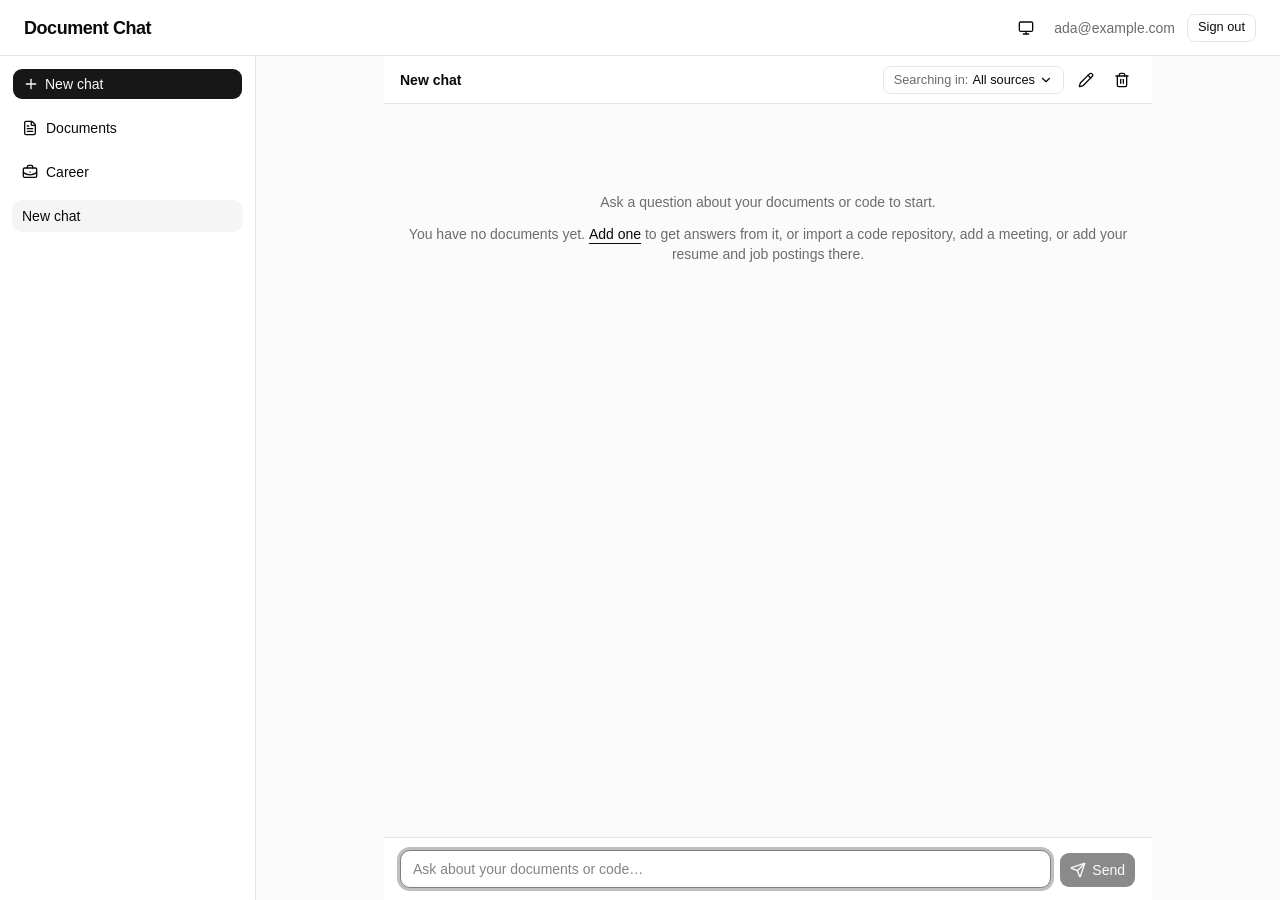
chat view › asking a question › formats the answer as Markdown but shows the question as typed
Type "What does **this** do?" into the text box named "Your question" at (726, 869), box [400,850,1051,888]
Then press Enter
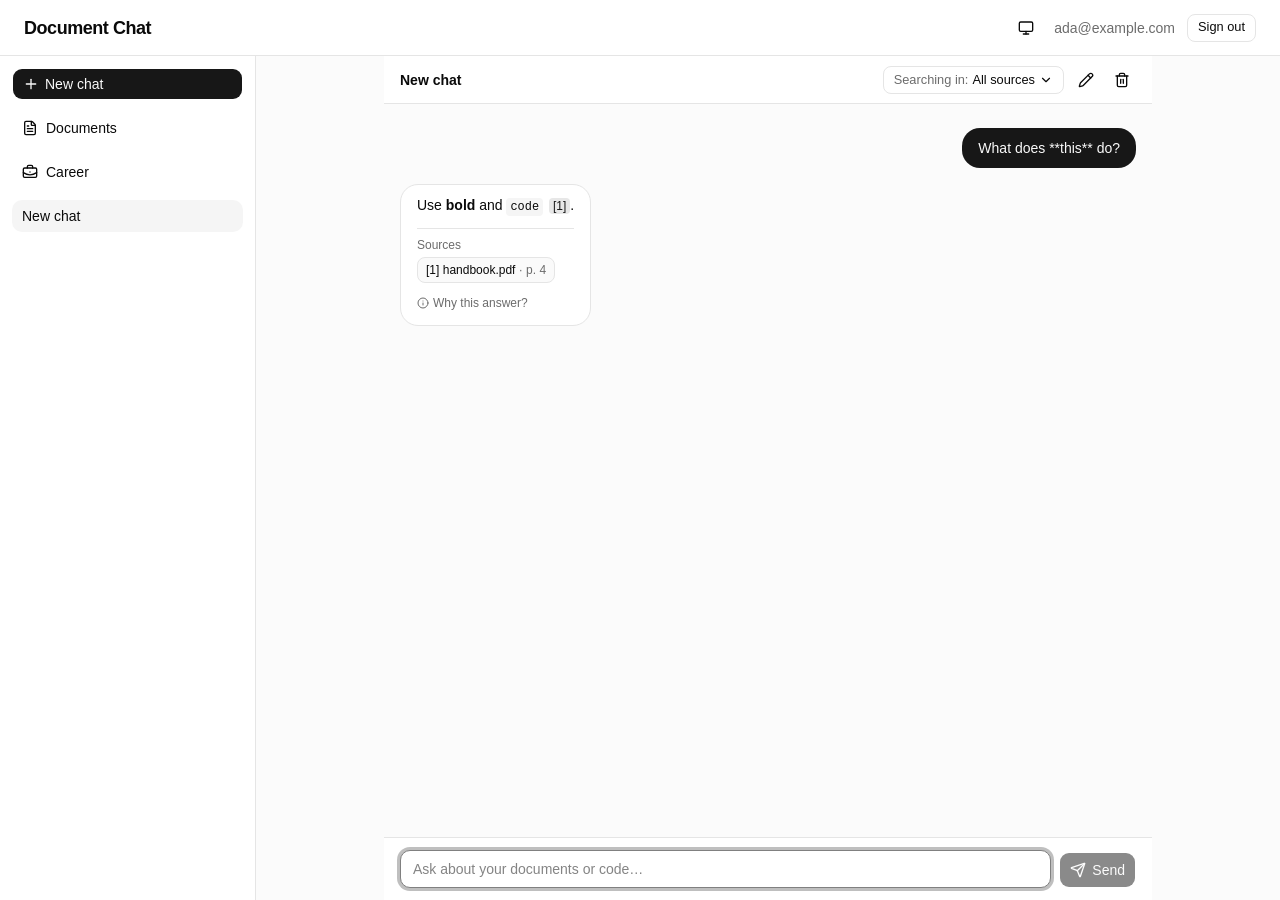
Check: the text "What does **this** do?" is shown, box [978,138,1120,158]
Check: the button named "Source 1: handbook.pdf, page 4" is shown, box [549,198,570,214]
